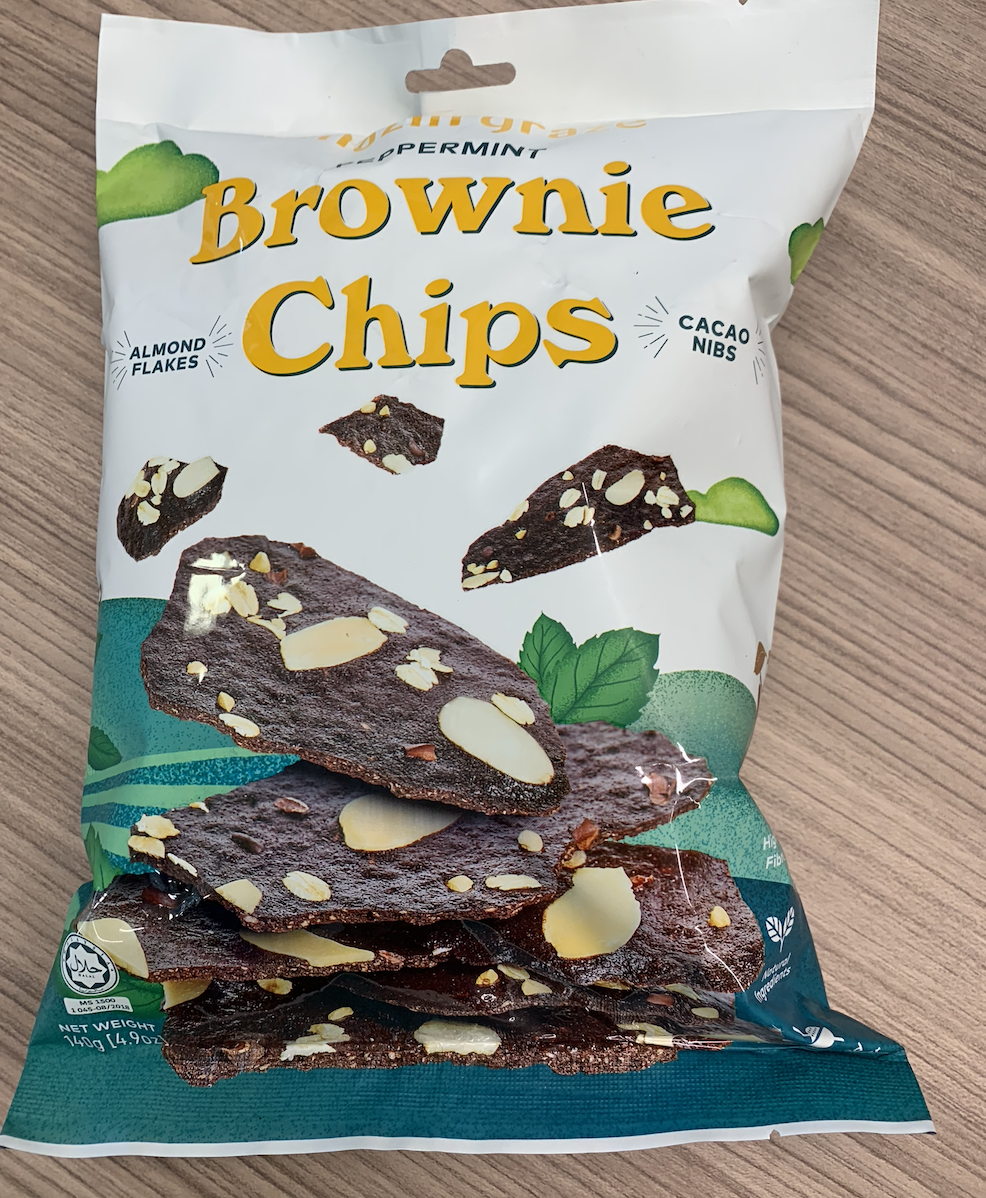cookies_100g-199g: (89, 106, 768, 1068)
